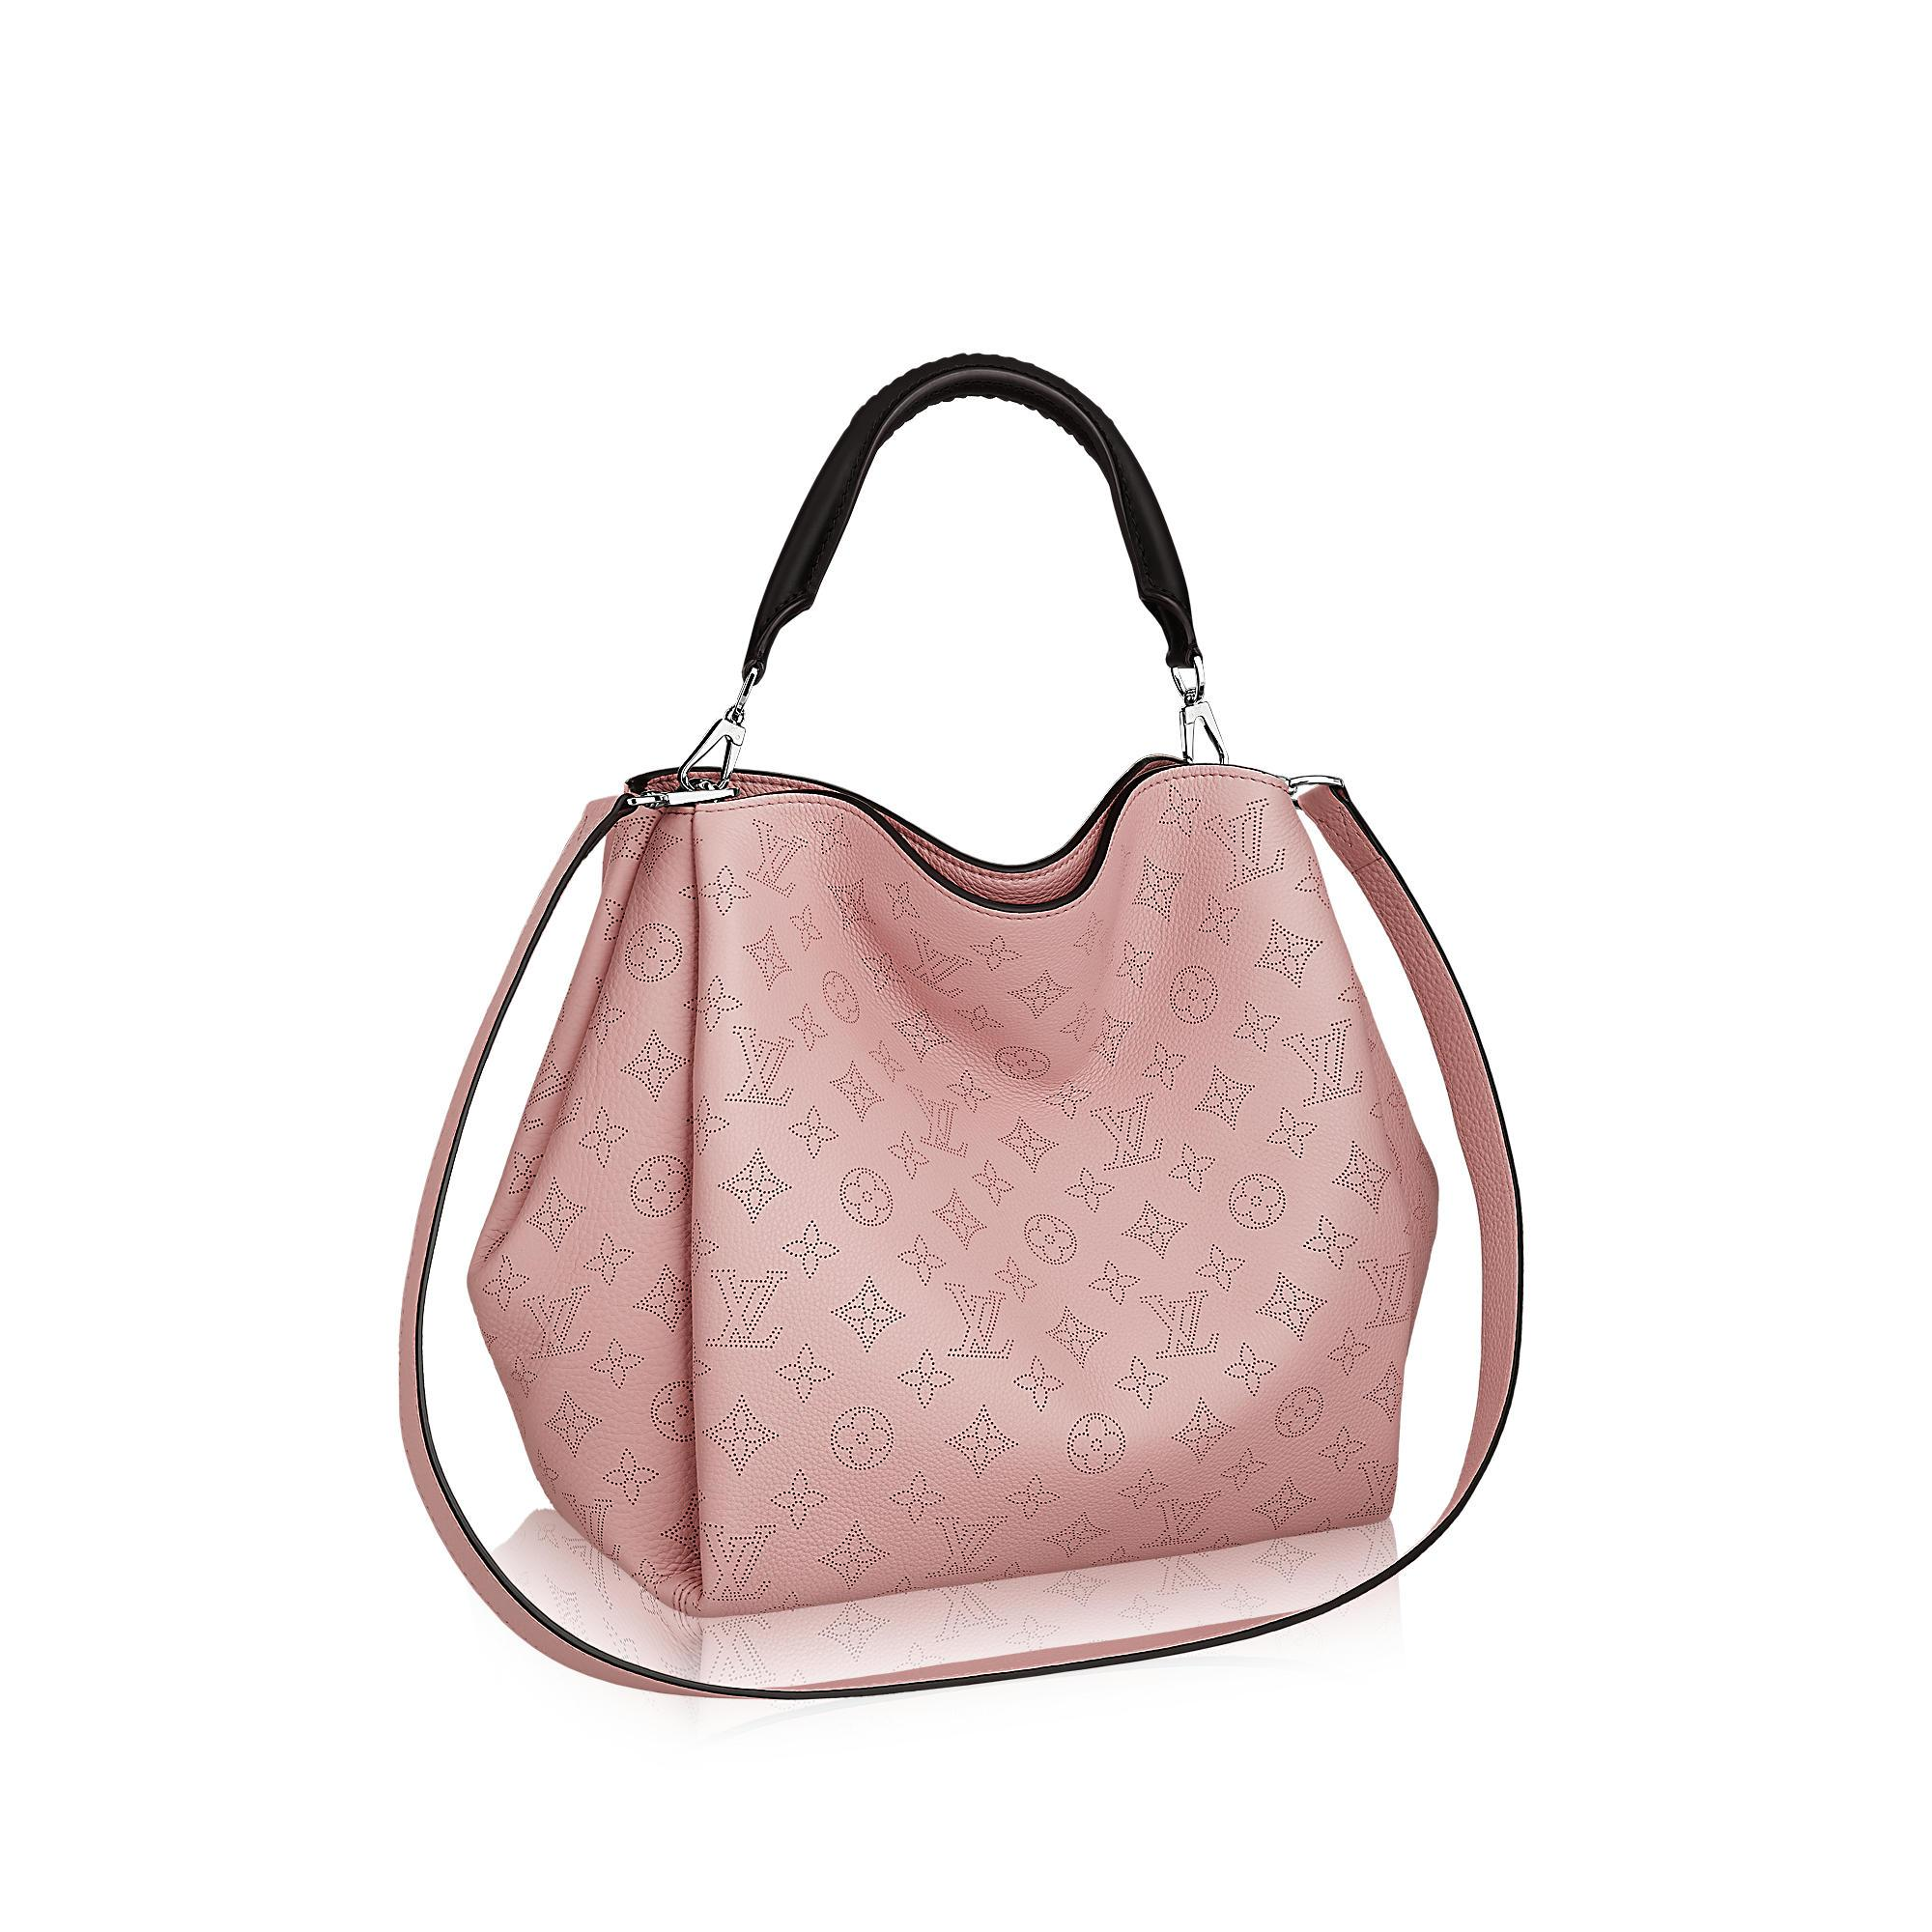LOUIS-VUITTON: (1201, 796, 1288, 897), (1279, 1016, 1364, 1106), (706, 1265, 791, 1350), (939, 1277, 1016, 1362), (1090, 1090, 1166, 1175), (722, 1021, 796, 1108), (701, 1518, 775, 1603), (1136, 1290, 1221, 1361), (901, 1081, 971, 1161), (743, 814, 810, 897), (524, 1283, 591, 1362), (1141, 1490, 1224, 1553), (929, 1511, 1007, 1578), (559, 1490, 625, 1568), (1359, 1247, 1419, 1330), (901, 929, 970, 1000)
